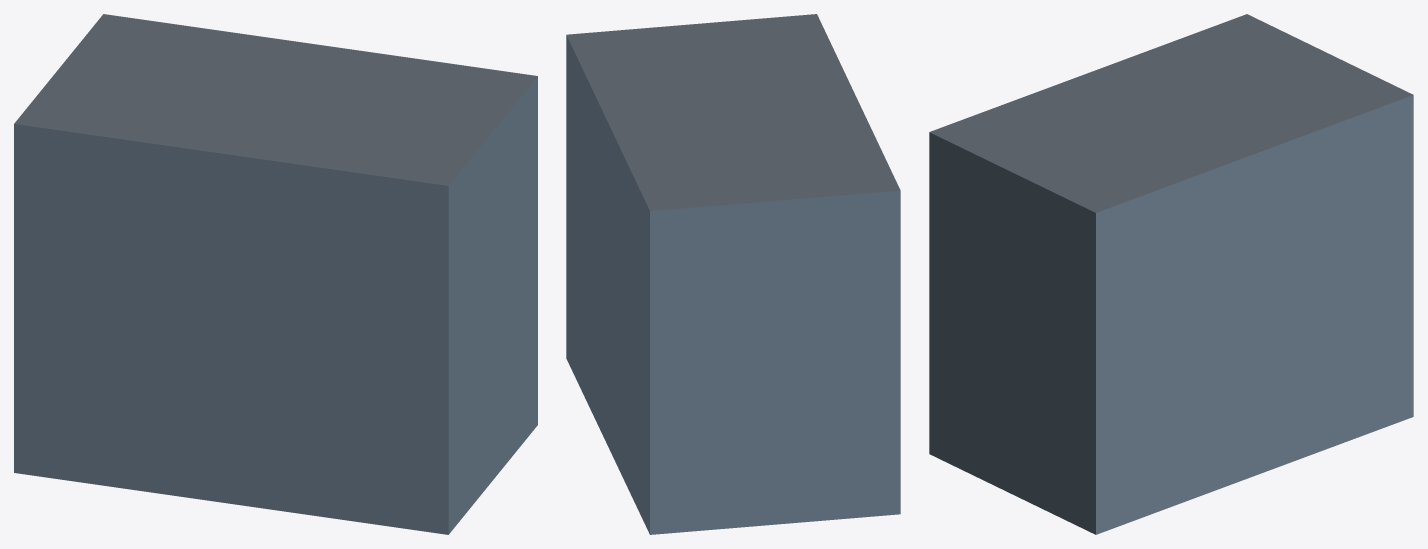
3 renders of one model, left to right at view 1: azimuth 30°, elevation 25°; view 2: azimuth 150°, elevation 25°; view 3: azimuth 270°, elevation 25°, orthographic. The views are drawn at different scales.
Visible parts, largest first — view 1: HP-w447126698; view 2: HP-w447126698; view 3: HP-w447126698.
Boxes of the visible parts, left/top/right/bottom form: HP-w447126698: left=14, top=14, right=537, bottom=534; HP-w447126698: left=566, top=14, right=900, bottom=534; HP-w447126698: left=929, top=14, right=1413, bottom=534.
Size of the model in its own units: 60.45 by 45.6 by 62.19.
